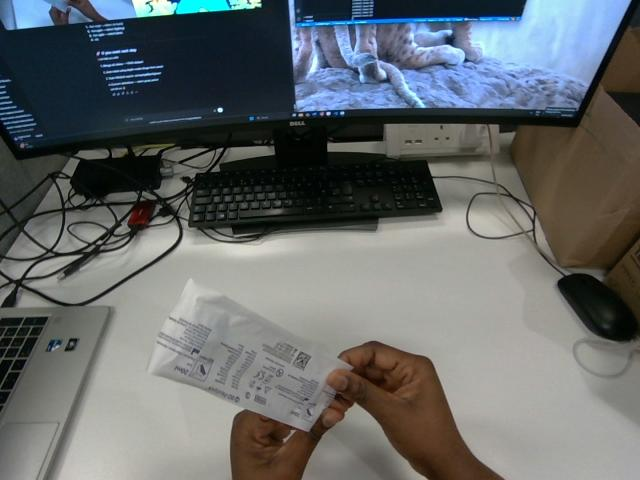syringe: (148, 280, 351, 430)
